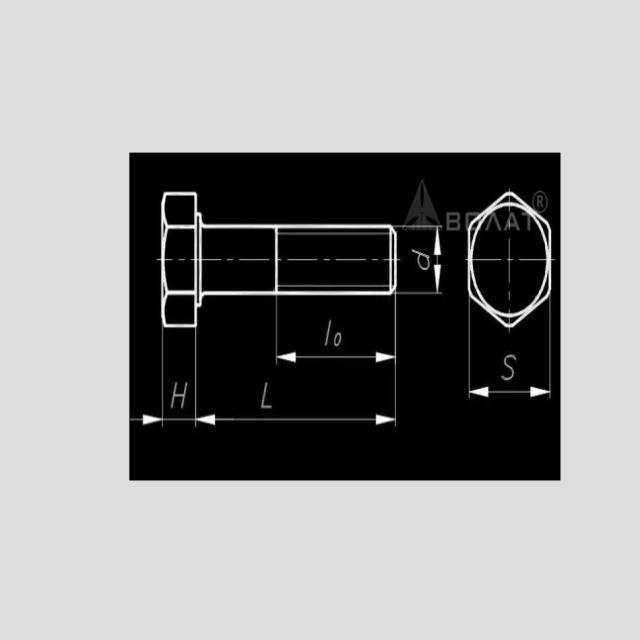marking_line: (196, 413, 395, 427), (278, 350, 396, 366), (471, 387, 551, 398), (432, 228, 442, 291), (130, 414, 160, 428)
